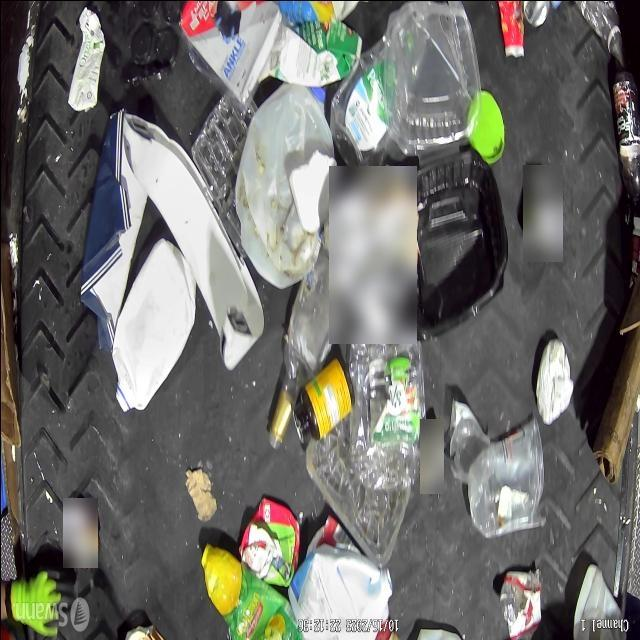milk_jug: (233, 86, 334, 287), (110, 236, 196, 413)
non_white_jug: (288, 543, 392, 640)
plastic_bottle: (612, 72, 640, 214)
